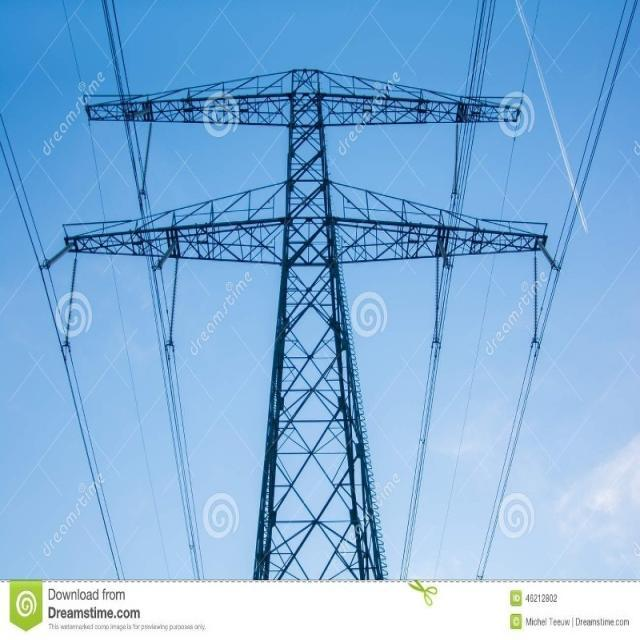non-critical vegetation: (77, 44, 520, 556)
